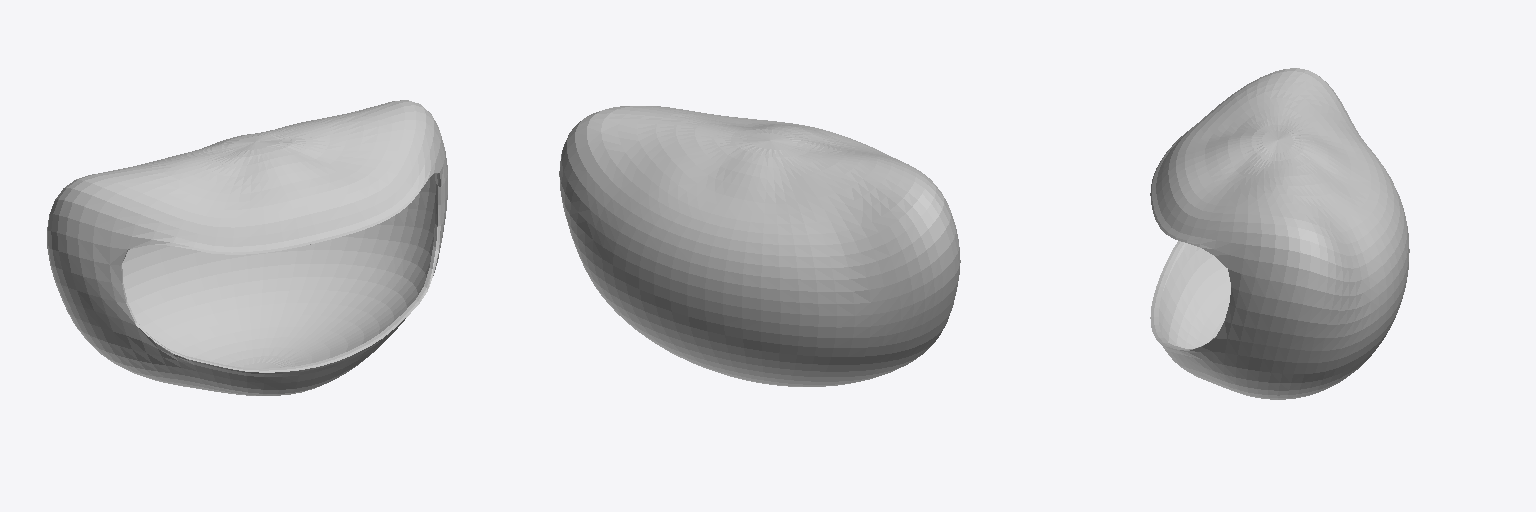
File: glumb1.obj
The picture shows the model from 3 angles: view 1: azimuth 30°, elevation 25°; view 2: azimuth 150°, elevation 25°; view 3: azimuth 270°, elevation 25°; orthographic projection.
Parts seen in each view (by area): view 1: Mouth_Sphere; view 2: Mouth_Sphere; view 3: Mouth_Sphere.
Part boxes in pixels (x1,y1,x2,y2): Mouth_Sphere: (47,100,447,395); Mouth_Sphere: (559,106,960,386); Mouth_Sphere: (1150,68,1409,399).
Size of the model in its own units: 3.34 by 1.91 by 1.95.